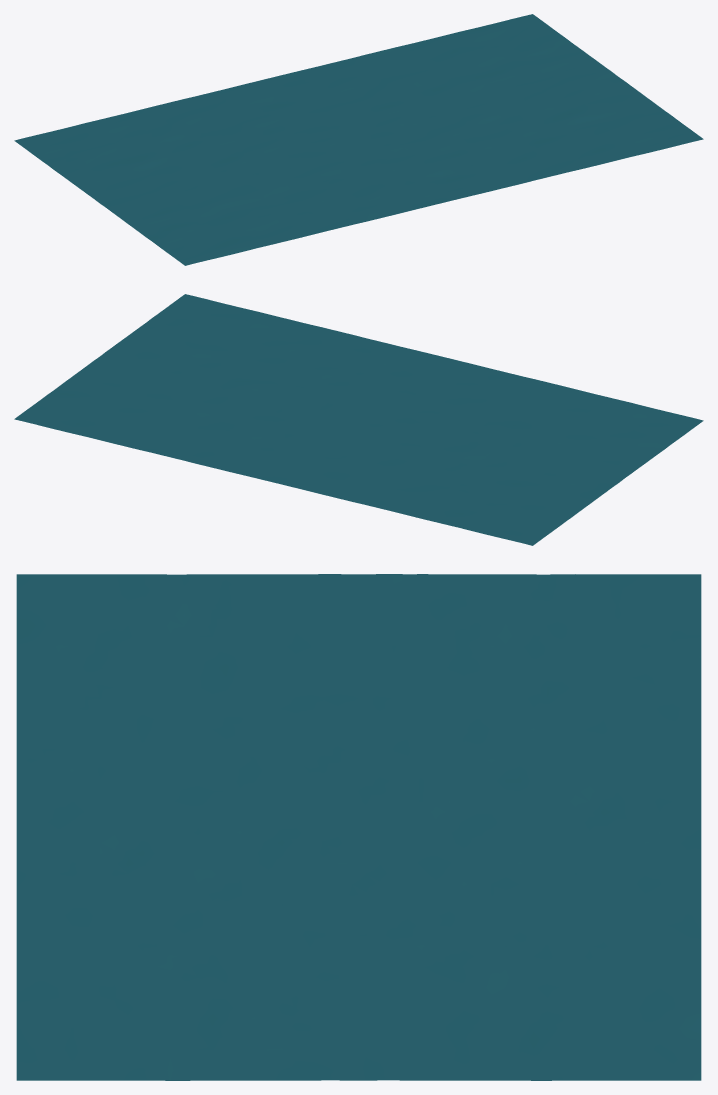
The model's file is calm_ocean.glb.
3 views of the same model, one above another, from view 1: azimuth 30°, elevation 25°; view 2: azimuth 150°, elevation 25°; view 3: azimuth 270°, elevation 25° (orthographic). The views are drawn at different scales.
Visible parts, largest first — view 1: CalmOcean; view 2: CalmOcean; view 3: CalmOcean.
Part boxes in pixels (bbox=[...]): CalmOcean: bbox=[14, 14, 703, 265]; CalmOcean: bbox=[14, 294, 703, 545]; CalmOcean: bbox=[16, 574, 701, 1080].
Size of the model in its own units: 420 by 0.3084 by 240.
